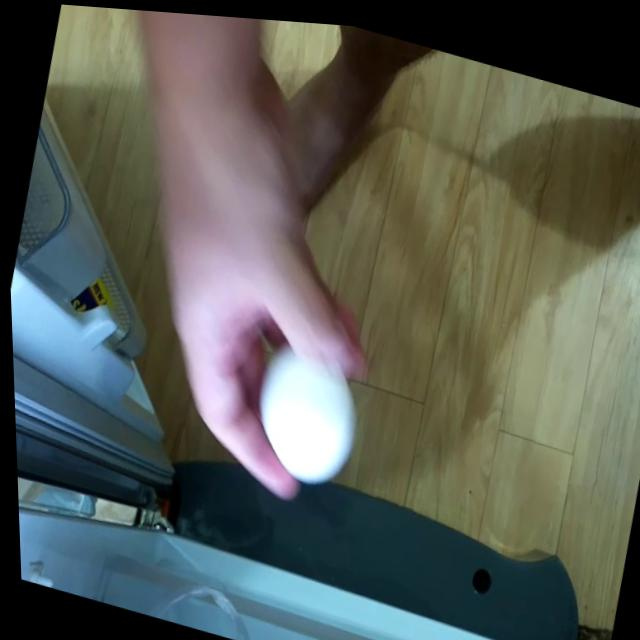egg: (231, 328, 368, 493)
